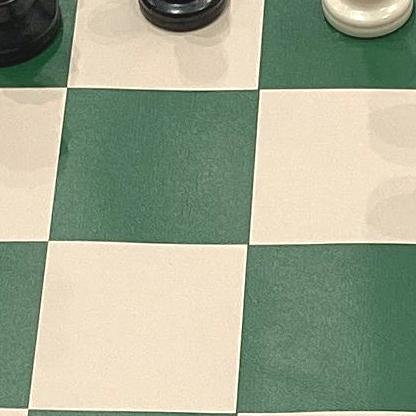black-pawn: (123, 0, 243, 47)
white-pawn: (311, 0, 416, 48)
